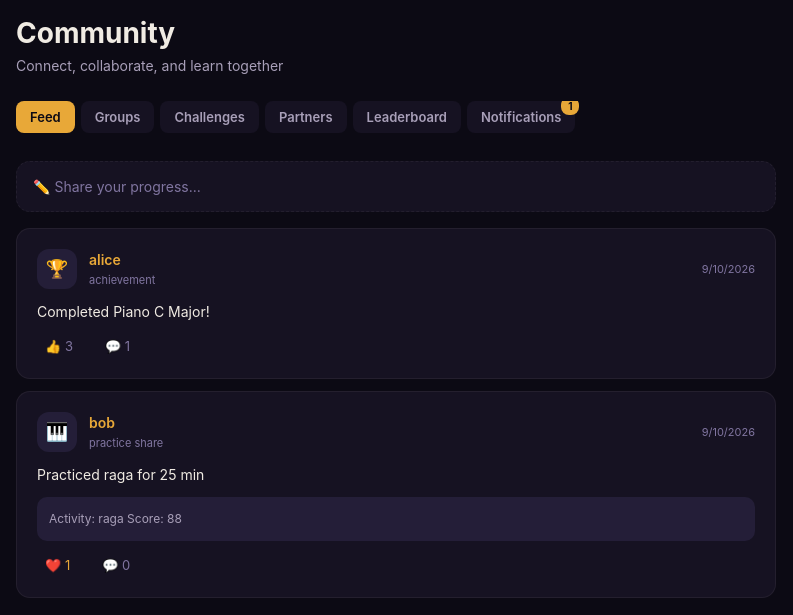
Test: Community Page › switches to partners tab
Expected: the heading "Community" is shown, [16,16,175,50]
Click the button "Partners".
click(306, 117)  # box [265,101,347,133]
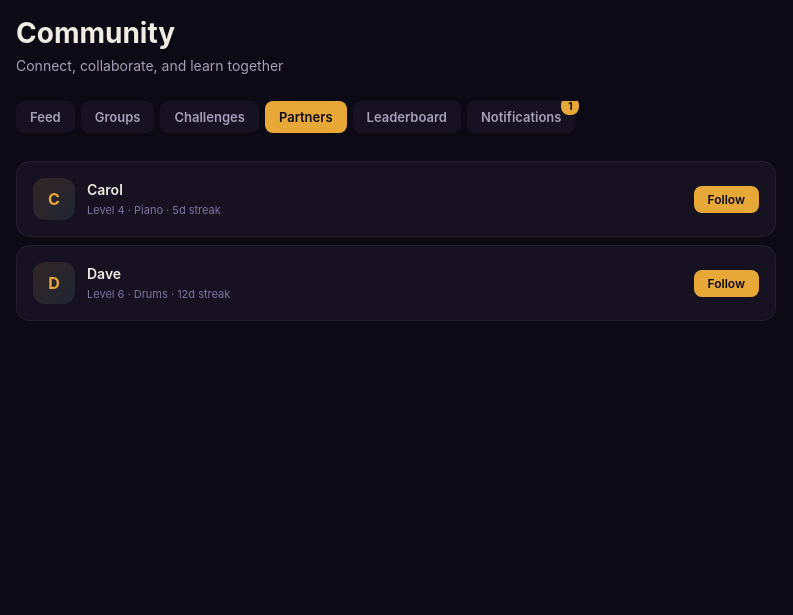
Expected: the text "Carol" is shown, [87,181,123,198]
Expected: the text "Dave" is shown, [87,265,121,282]
